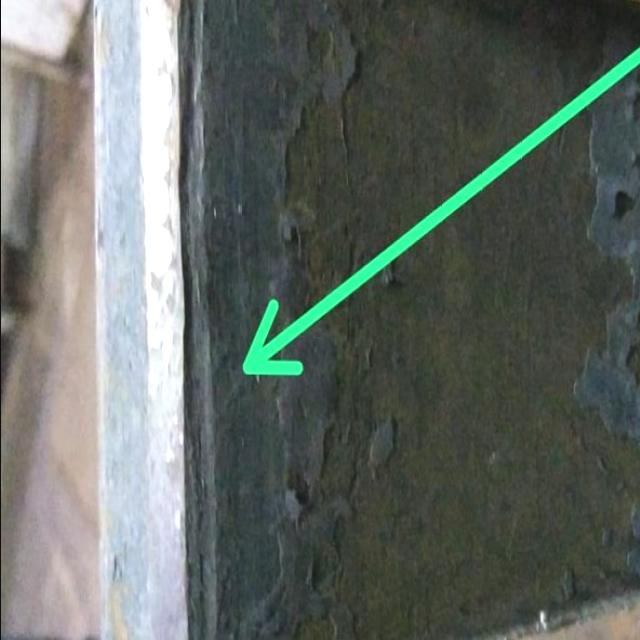defect: (167, 0, 224, 640)
